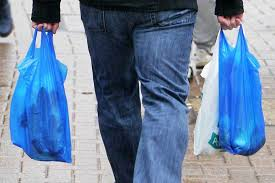PlasticBag: (11, 32, 76, 166), (212, 28, 268, 154)
